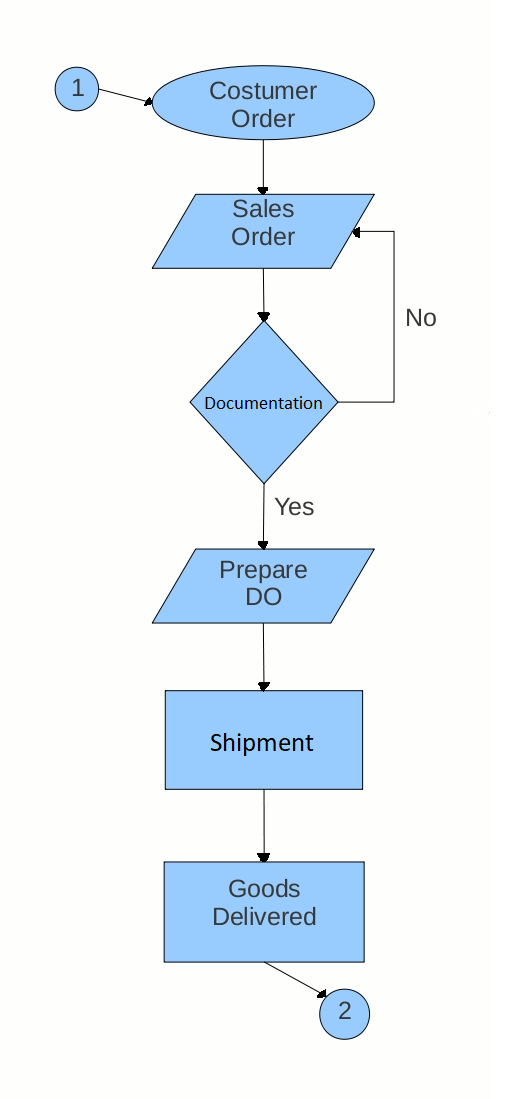arrow: (333, 221, 402, 409), (255, 789, 272, 867), (252, 139, 273, 199), (253, 620, 270, 694), (250, 269, 272, 322), (255, 485, 272, 552)
connection: (317, 984, 375, 1044), (48, 63, 102, 114)
data: (148, 189, 377, 275), (150, 544, 382, 627)
decision: (187, 322, 342, 484), (205, 73, 320, 131), (228, 195, 302, 254), (197, 390, 325, 417), (67, 73, 92, 103), (332, 995, 355, 1027)
process: (157, 855, 372, 969), (158, 685, 372, 795)
terminator: (148, 61, 380, 143)
text: (208, 874, 323, 932), (215, 555, 315, 609), (207, 727, 318, 755), (398, 304, 440, 334), (272, 494, 318, 520)
